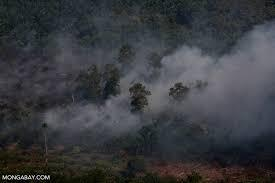smoke: (32, 20, 275, 149)
